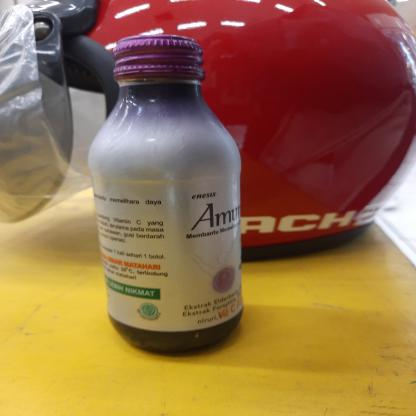keyboard: (88, 30, 249, 359)
